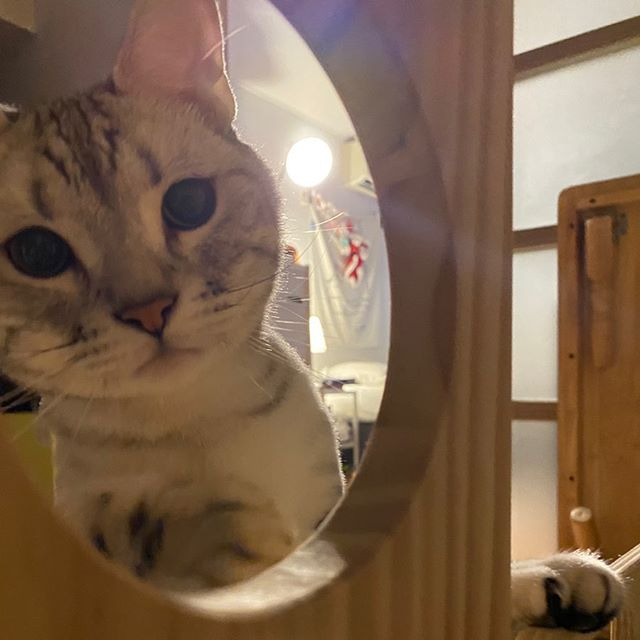cat: (2, 1, 279, 396)
